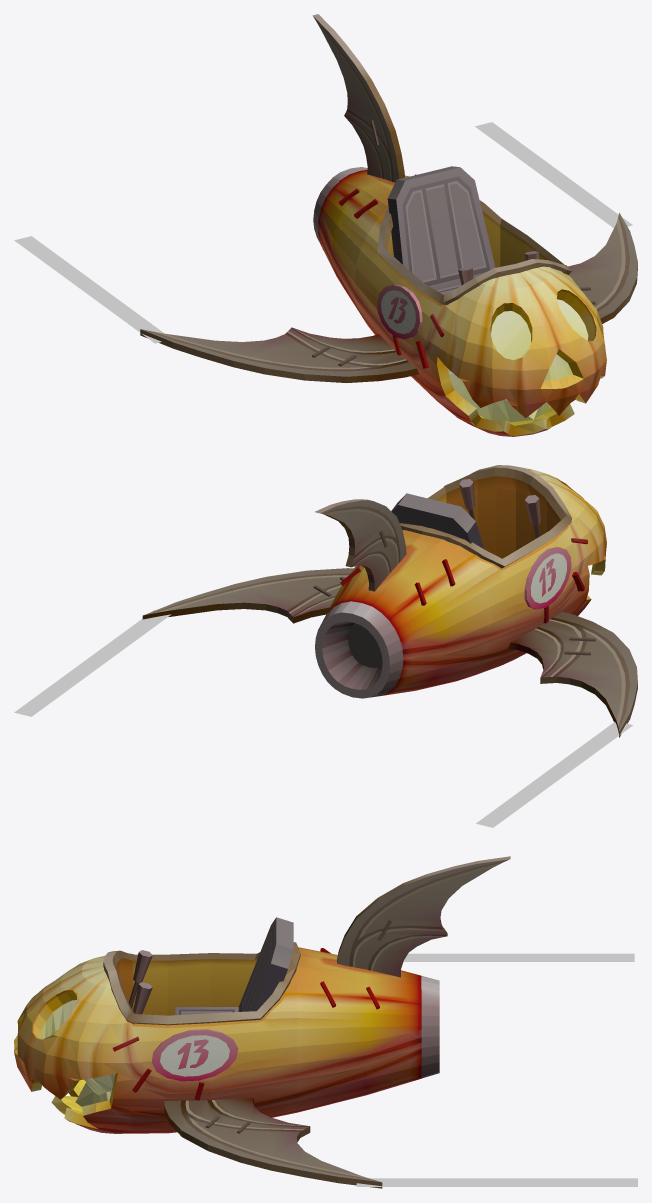
File: ZombieBenAirplane.glb
3 views of the same model, one above another, from view 1: azimuth 30°, elevation 25°; view 2: azimuth 150°, elevation 25°; view 3: azimuth 270°, elevation 25° (orthographic).
Parts seen in each view (by area): view 1: airplane, Trail1, Trail2; view 2: airplane, Trail2, Trail1; view 3: airplane, Trail1, Trail2.
Boxes of the visible parts, <box> form: airplane: <box>140,14,637,436</box>; Trail1: <box>475,122,632,227</box>; Trail2: <box>14,236,164,343</box>; airplane: <box>142,465,637,737</box>; Trail2: <box>476,722,633,827</box>; Trail1: <box>14,610,171,716</box>; airplane: <box>14,856,510,1188</box>; Trail1: <box>356,1178,637,1186</box>; Trail2: <box>403,953,634,961</box>.
Bounding box in the file's own units: 1.17 × 0.6224 × 1.32.
